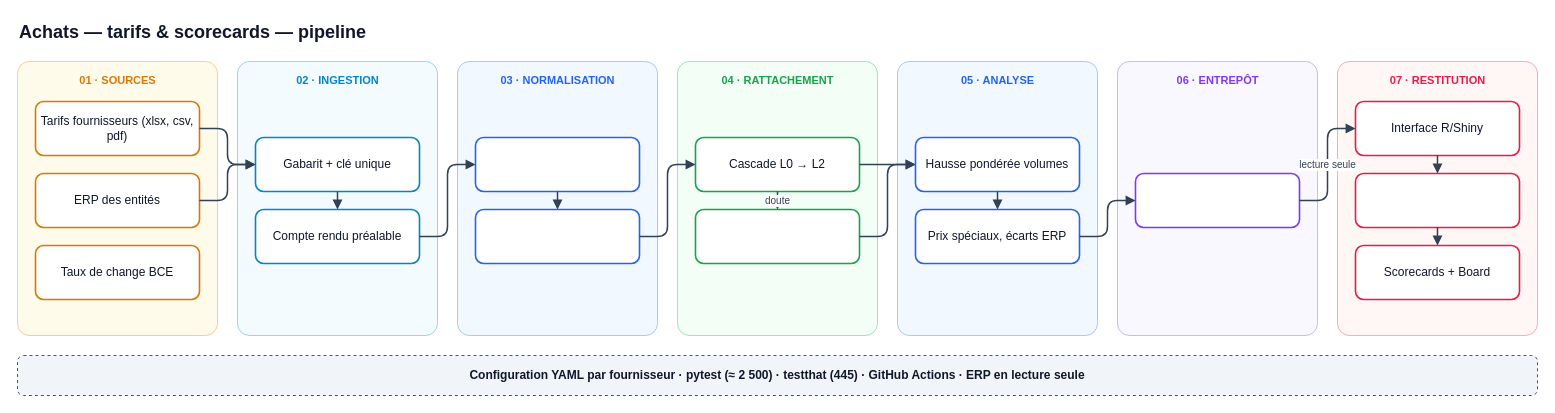
Some shapes in this 1555 by 413 pixel diagram are drawn without their labels. Here are the shapes that lost their labels. From the top down, the box of each, then its label:
(474, 136, 640, 192): Devises, unités
(1134, 172, 1300, 228): DuckDB + journal
(1354, 172, 1520, 228): Mémo + dossier Excel
(474, 208, 640, 264): Masques de référence
(694, 208, 860, 264): Arbitrage humain (L3)
